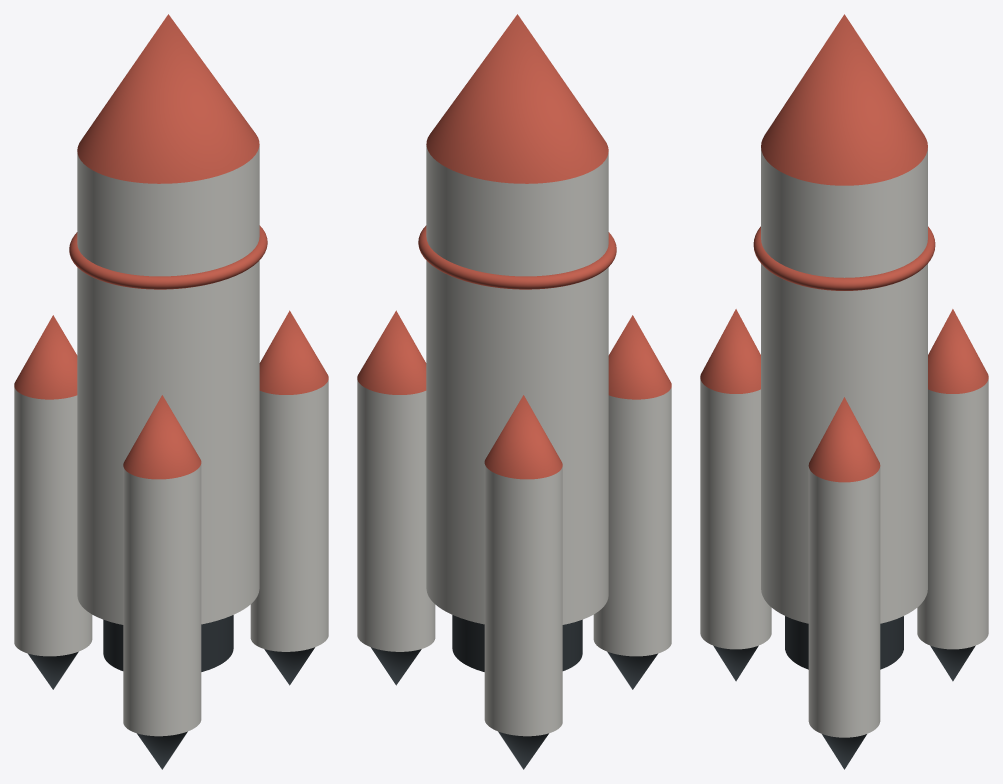
3 views of the same model, side by side, from view 1: azimuth 30°, elevation 25°; view 2: azimuth 150°, elevation 25°; view 3: azimuth 270°, elevation 25° (orthographic).
Parts seen in each view (by area): view 1: 主箭体, 助推器.002, 助推器, 整流罩, 助推器.001, 助推器头锥.002, 助推器头锥, 助推器头锥.001, 环形标记, 发动机, 喷口, 喷口.001 (+1 smaller); view 2: 主箭体, 助推器.001, 助推器, 整流罩, 助推器.002, 助推器头锥.001, 助推器头锥, 助推器头锥.002, 环形标记, 发动机, 喷口, 喷口.002 (+1 smaller); view 3: 主箭体, 助推器, 整流罩, 助推器.001, 助推器.002, 助推器头锥, 助推器头锥.001, 助推器头锥.002, 环形标记, 发动机, 喷口.001, 喷口.002 (+1 smaller).
Part boxes in pixels (x1,y1,x2,y2): 主箭体: (77,145,259,624); 助推器.002: (123,464,201,736); 助推器: (250,380,328,651); 整流罩: (77,14,259,183); 助推器.001: (14,387,92,656); 助推器头锥.002: (123,395,201,479); 助推器头锥: (259,310,328,394); 助推器头锥.001: (14,315,77,399); 环形标记: (69,225,267,289); 发动机: (103,615,233,671); 喷口: (264,647,314,685); 喷口.001: (28,651,78,689); 主箭体: (426,145,608,624); 助推器.001: (484,464,562,736); 助推器: (357,380,435,651); 整流罩: (426,14,608,183); 助推器.002: (593,387,671,656); 助推器头锥.001: (484,395,562,479); 助推器头锥: (357,310,426,394); 助推器头锥.002: (608,315,671,399); 环形标记: (418,225,616,289); 发动机: (452,615,582,671); 喷口: (371,647,421,685); 喷口.002: (607,651,657,689); 主箭体: (761,148,927,623); 助推器: (808,467,880,737); 整流罩: (761,14,927,185); 助推器.001: (917,379,988,649); 助推器.002: (700,379,771,649); 助推器头锥: (808,397,880,482); 助推器头锥.001: (928,309,988,393); 助推器头锥.002: (700,309,760,393); 环形标记: (753,226,935,290); 发动机: (785,616,903,669); 喷口.001: (930,645,975,681); 喷口.002: (713,645,758,681).
Size of the model in its own units: 0.75 by 2 by 0.75.
